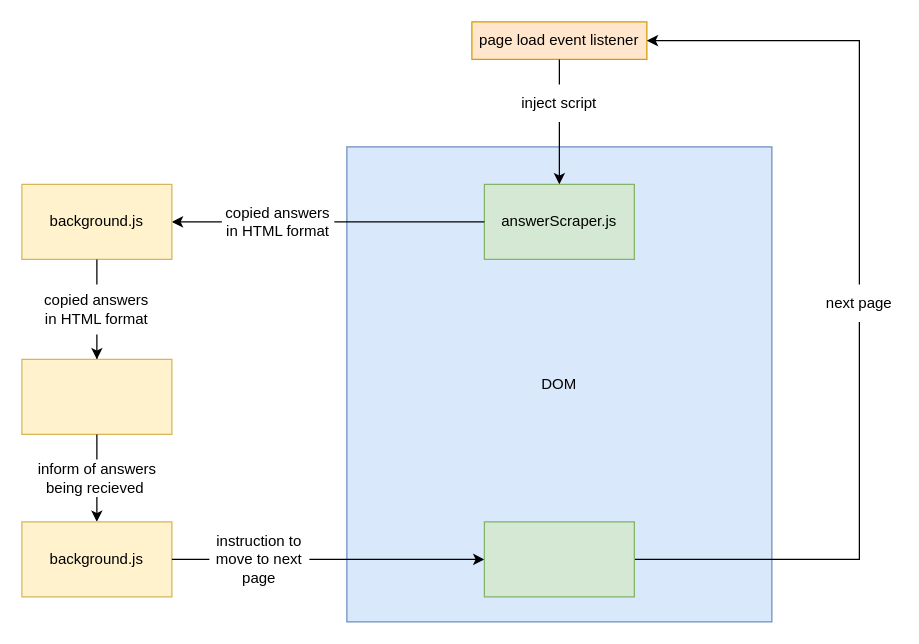
Some shapes in this 919 by 644 pixel diagram are drawn without their labels. Each missing label, with the box of its shape:
document.html: (21, 358, 172, 434)
nextAnswer.js: (483, 521, 634, 597)
